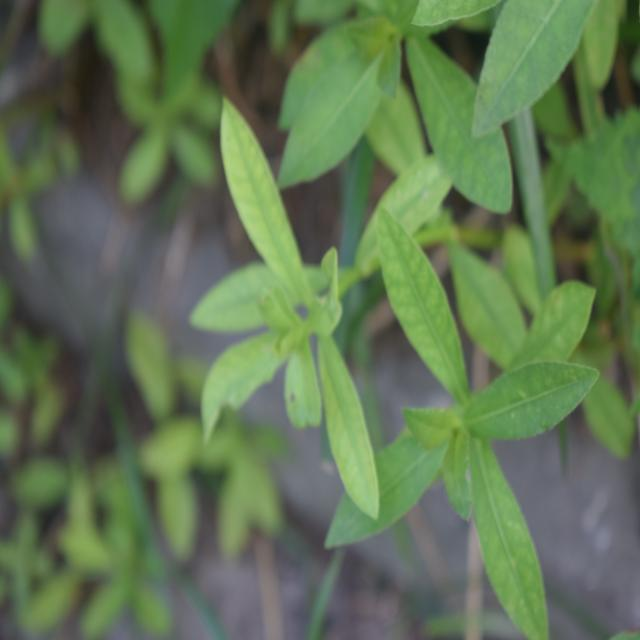Alligatorweed: (175, 90, 388, 546), (366, 214, 582, 620)
